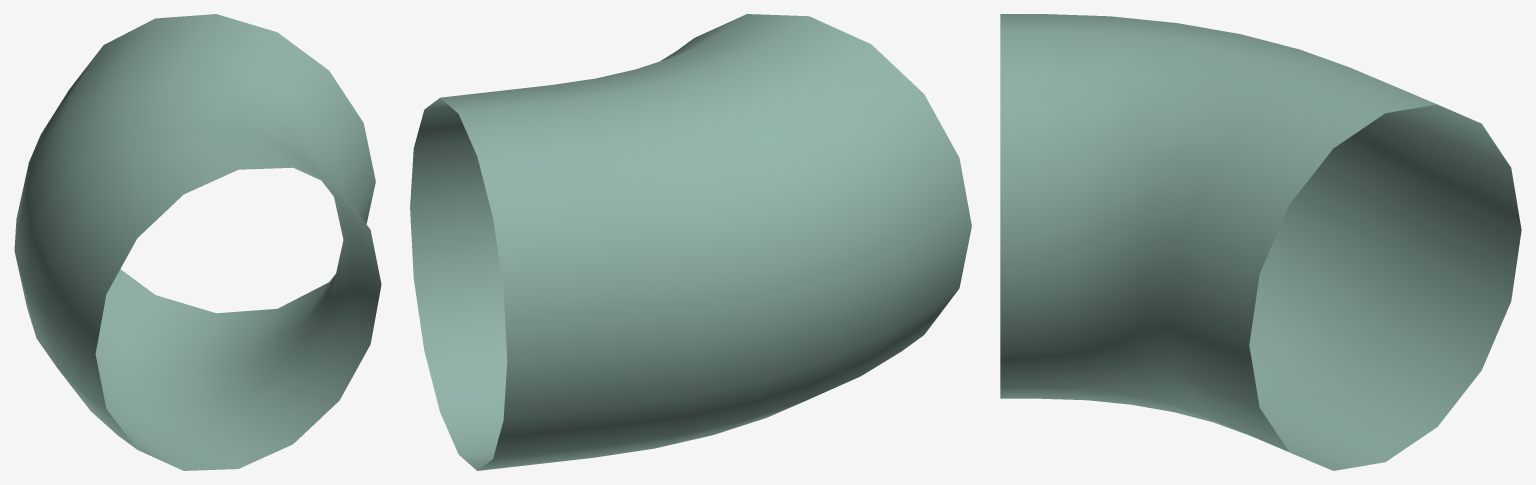
File: PipeLarge_BentDeg45_01.fbx
The picture shows the model from 3 angles, left to right: view 1: azimuth 30°, elevation 25°; view 2: azimuth 150°, elevation 25°; view 3: azimuth 270°, elevation 25°; orthographic projection. The views are drawn at different scales.
Parts seen in each view (by area): view 1: PipeLarge_BentDeg45_01.001; view 2: PipeLarge_BentDeg45_01.001; view 3: PipeLarge_BentDeg45_01.001.
Part boxes in pixels (left/top/right/bottom): PipeLarge_BentDeg45_01.001: left=14, top=14, right=381, bottom=470; PipeLarge_BentDeg45_01.001: left=410, top=14, right=971, bottom=470; PipeLarge_BentDeg45_01.001: left=1000, top=14, right=1521, bottom=470.
Bounding box in the file's own units: 0.2707 × 0.2 × 0.2707.
